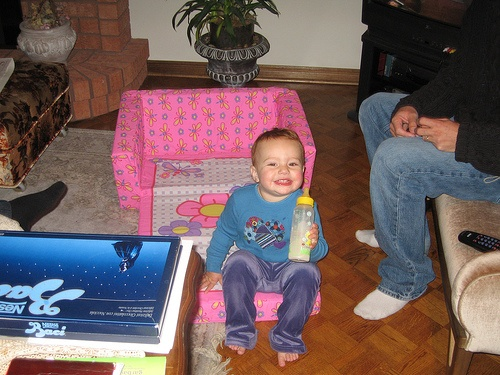head: (251, 129, 308, 198)
person: (351, 3, 497, 326), (203, 123, 326, 370)
